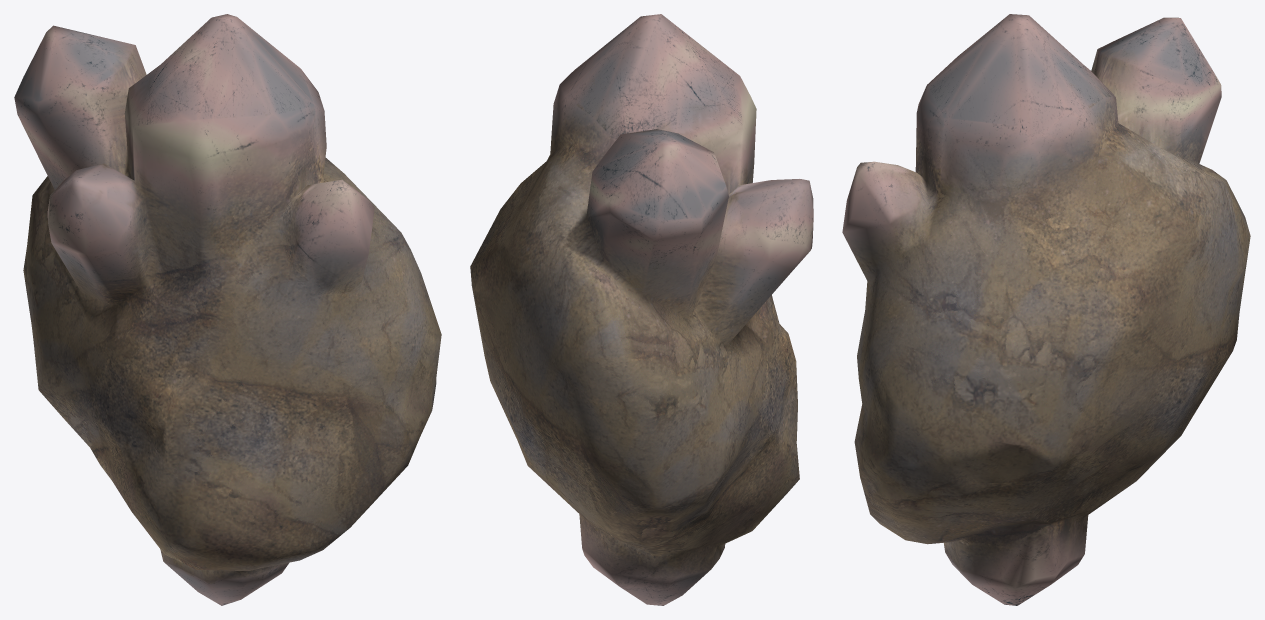
The model's file is SM_Mineral_1.fbx.
The picture shows the model from 3 angles, left to right: view 1: azimuth 30°, elevation 25°; view 2: azimuth 150°, elevation 25°; view 3: azimuth 270°, elevation 25°; orthographic projection.
Parts seen in each view (by area): view 1: SM_Mineral_1; view 2: SM_Mineral_1; view 3: SM_Mineral_1.
Part boxes in pixels (box(x1,y1,x2,y2)): SM_Mineral_1: box(14, 14, 441, 605); SM_Mineral_1: box(470, 14, 813, 605); SM_Mineral_1: box(842, 14, 1250, 605).
Size of the model in its own units: 0.8165 by 1.36 by 0.8532.
